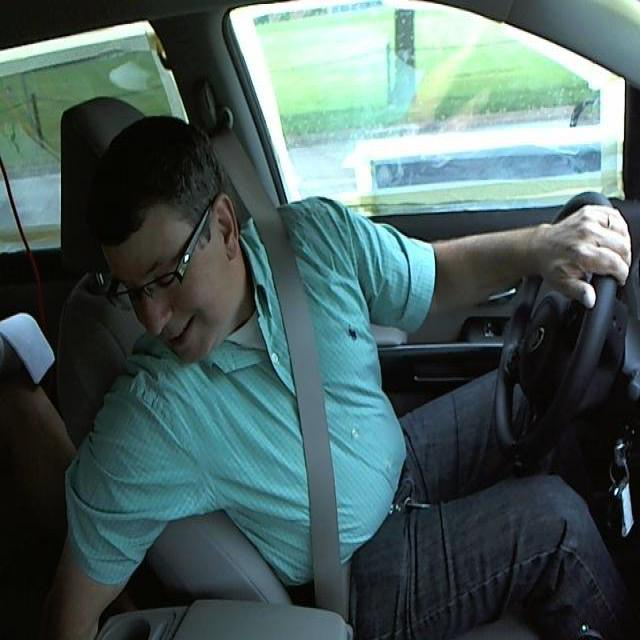seatbelt: (269, 242, 363, 618)
